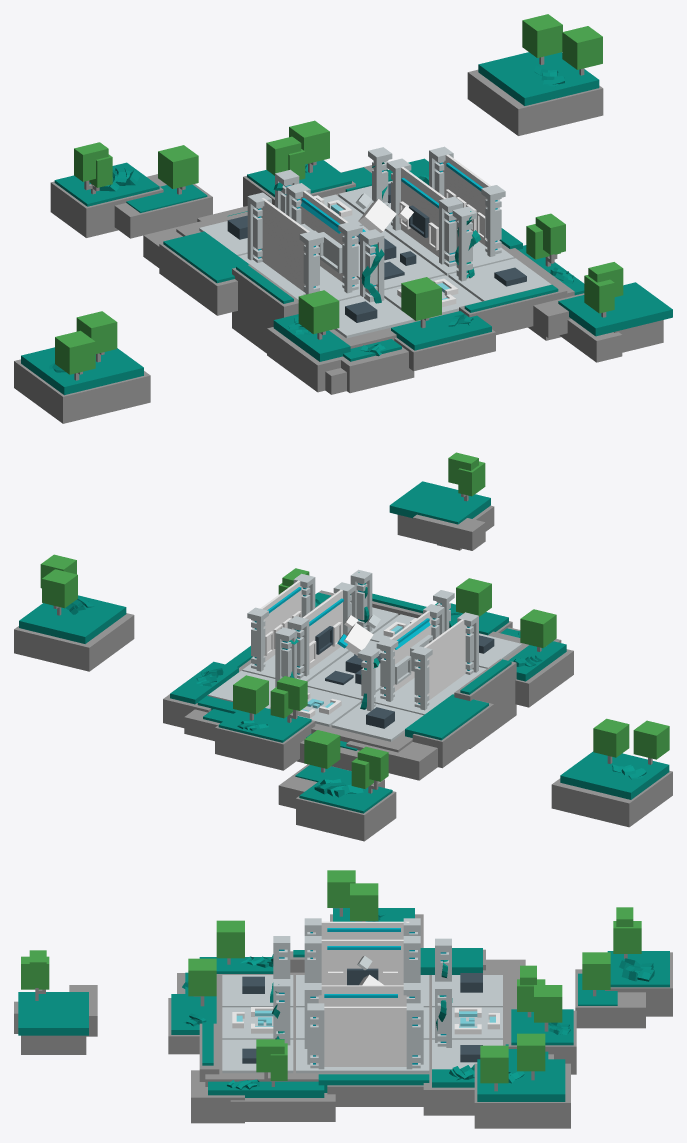
File: HPEInnovationHub.glb
3 renders of one model, top to bottom at view 1: azimuth 30°, elevation 25°; view 2: azimuth 150°, elevation 25°; view 3: azimuth 270°, elevation 25°, orthographic. The views are drawn at different scales.
Visible parts, largest first — view 1: group1306484637, group486283697, group656191759, group602155895, group445860012, group985830789, group90543103, group1675820717, group1130891968, group1281993969, group873421627, group1637909053 (+23 smaller); view 2: group602155895, group486283697, group1306484637, group656191759, group445860012, group985830789, group1675820717, group279731706, group90543103, group1130891968, group542566685, group1563131716 (+18 smaller); view 3: group656191759, group486283697, group1306484637, group1675820717, group445860012, group1130891968, group1942364772, group602155895, group46130247, group90543103, group1380893060, group985830789 (+26 smaller).
Part boxes in pixels (<box>): group1306484637: <box>467,14,603,135</box>; group486283697: <box>50,142,212,238</box>; group656191759: <box>199,181,551,338</box>; group602155895: <box>14,311,150,423</box>; group445860012: <box>533,262,672,362</box>; group985830789: <box>247,192,323,294</box>; group90543103: <box>386,158,463,266</box>; group1675820717: <box>429,146,505,256</box>; group1130891968: <box>286,183,362,293</box>; group1281993969: <box>232,264,298,353</box>; group873421627: <box>159,243,237,315</box>; group1637909053: <box>360,206,476,302</box>; group602155895: <box>551,718,672,827</box>; group486283697: <box>278,730,396,841</box>; group1306484637: <box>14,554,134,671</box>; group656191759: <box>208,607,521,741</box>; group445860012: <box>389,452,494,550</box>; group985830789: <box>411,612,478,710</box>; group1675820717: <box>247,573,315,671</box>; group279731706: <box>215,720,315,770</box>; group90543103: <box>287,582,355,678</box>; group1130891968: <box>376,604,444,701</box>; group542566685: <box>405,694,488,740</box>; group1563131716: <box>275,627,379,711</box>; group656191759: <box>222,975,502,1073</box>; group486283697: <box>575,907,672,1028</box>; group1306484637: <box>474,1033,570,1128</box>; group1675820717: <box>307,1003,423,1069</box>; group445860012: <box>14,950,97,1054</box>; group1130891968: <box>304,936,420,985</box>; group1942364772: <box>205,970,516,1086</box>; group602155895: <box>327,870,423,947</box>; group46130247: <box>230,1093,335,1121</box>; group90543103: <box>304,983,420,1048</box>; group1380893060: <box>327,1085,423,1106</box>; group985830789: <box>304,918,420,939</box>.
Bounding box in the file's own units: 2.4 × 0.6713 × 2.32.
